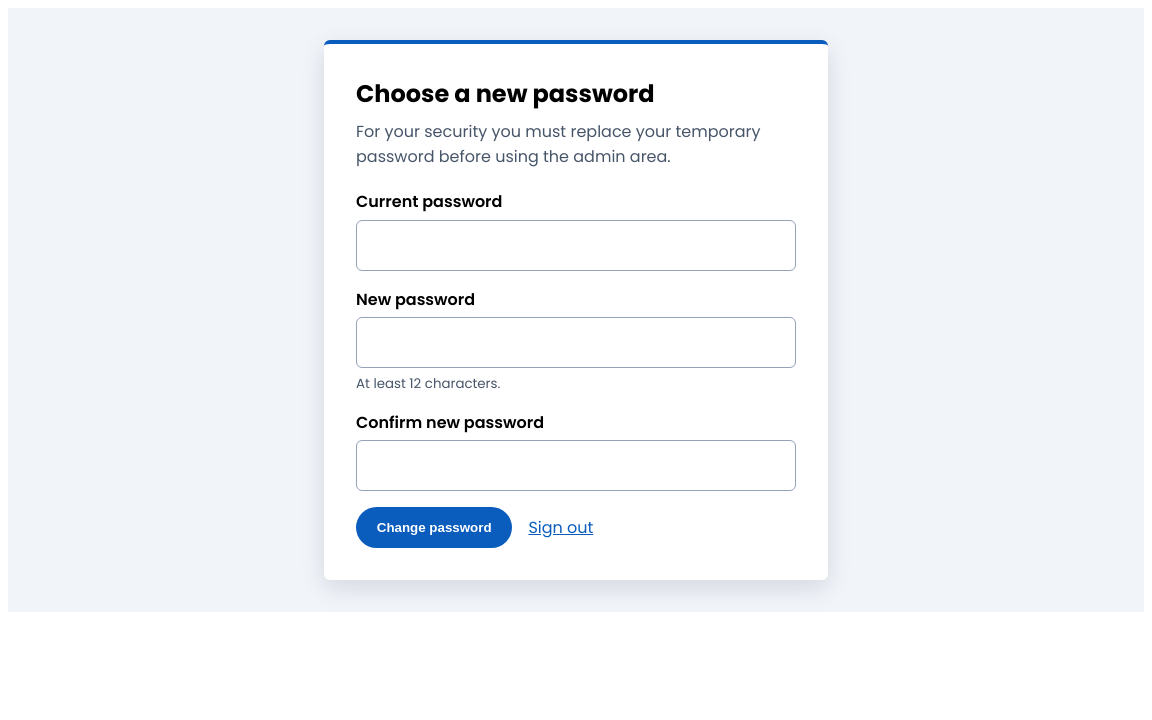
Test: ChangePasswordPageComponent › shows the server message inline instead of a toast
Type "wrong-password-123" into the password field labelled "Current password" at (576, 245), box [356,220,796,271]
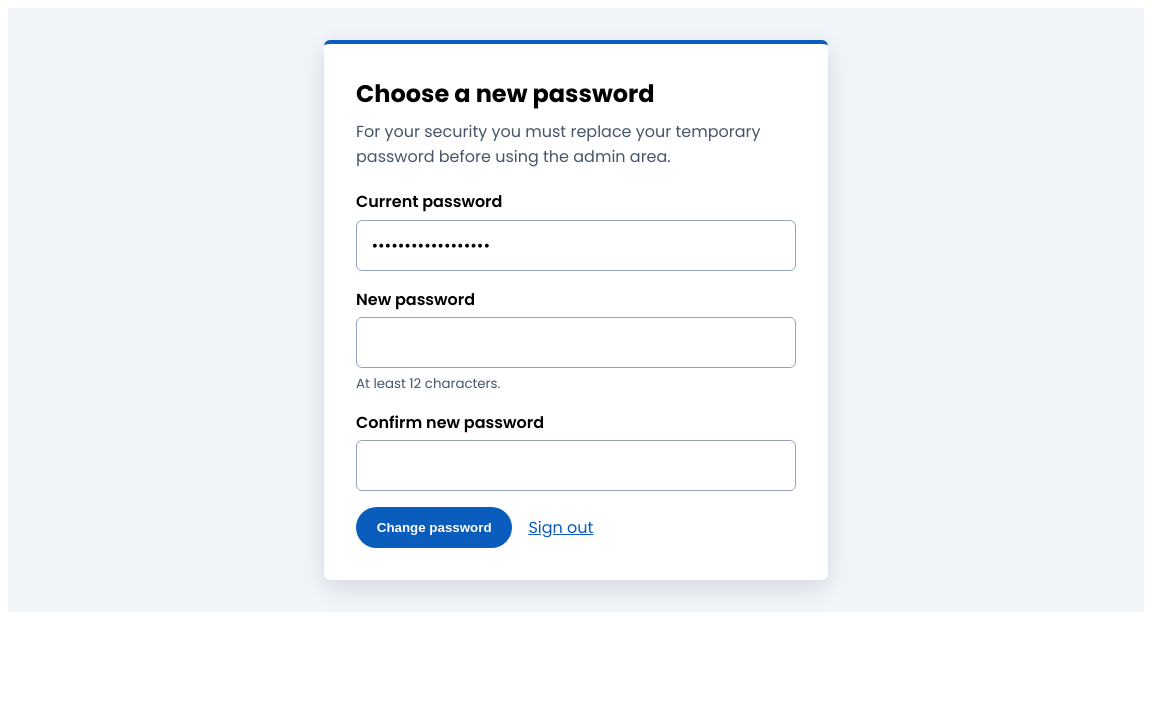
Type "a-brand-new-password" into the password field labelled "New password" at (576, 343), box [356,317,796,368]
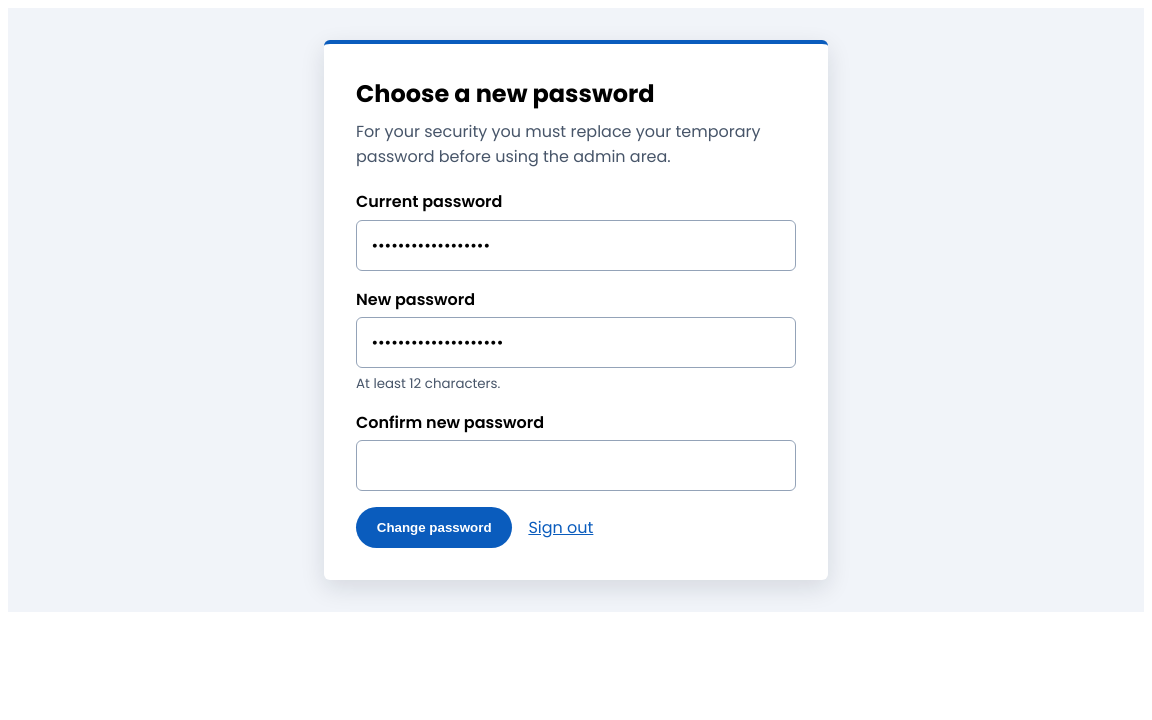
Type "a-brand-new-password" into the password field labelled "Confirm new password" at (576, 466), box [356,440,796,491]
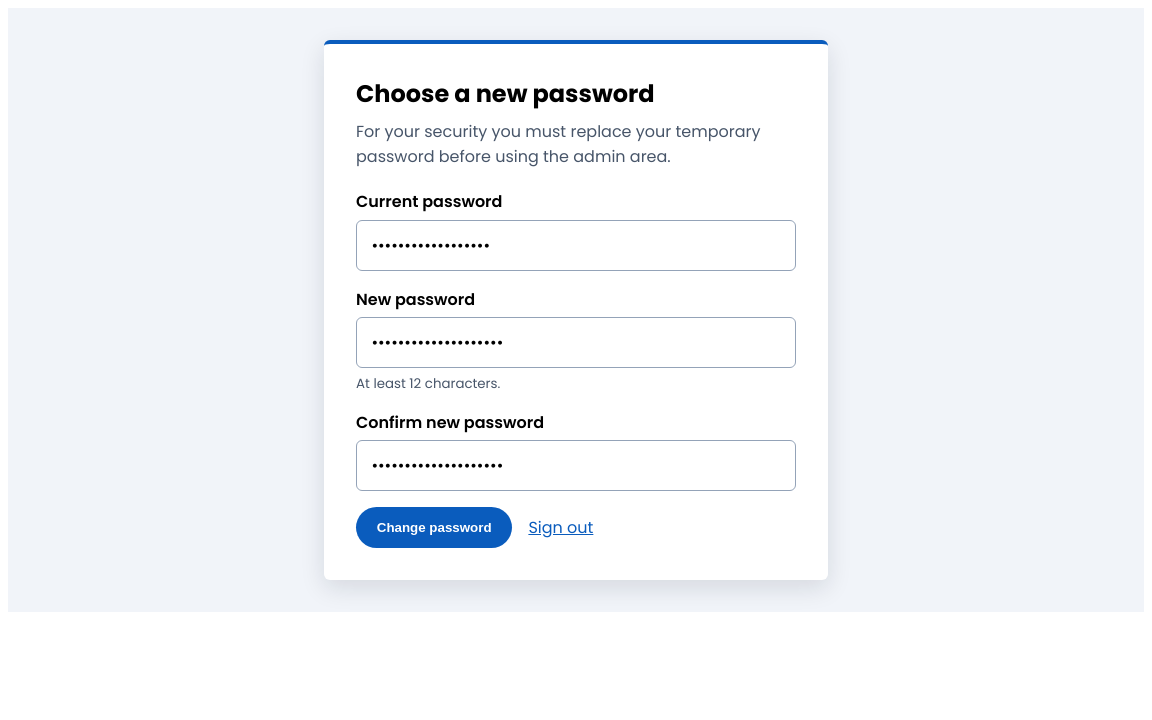
Click the submit button at (434, 528), box [356,507,512,548]
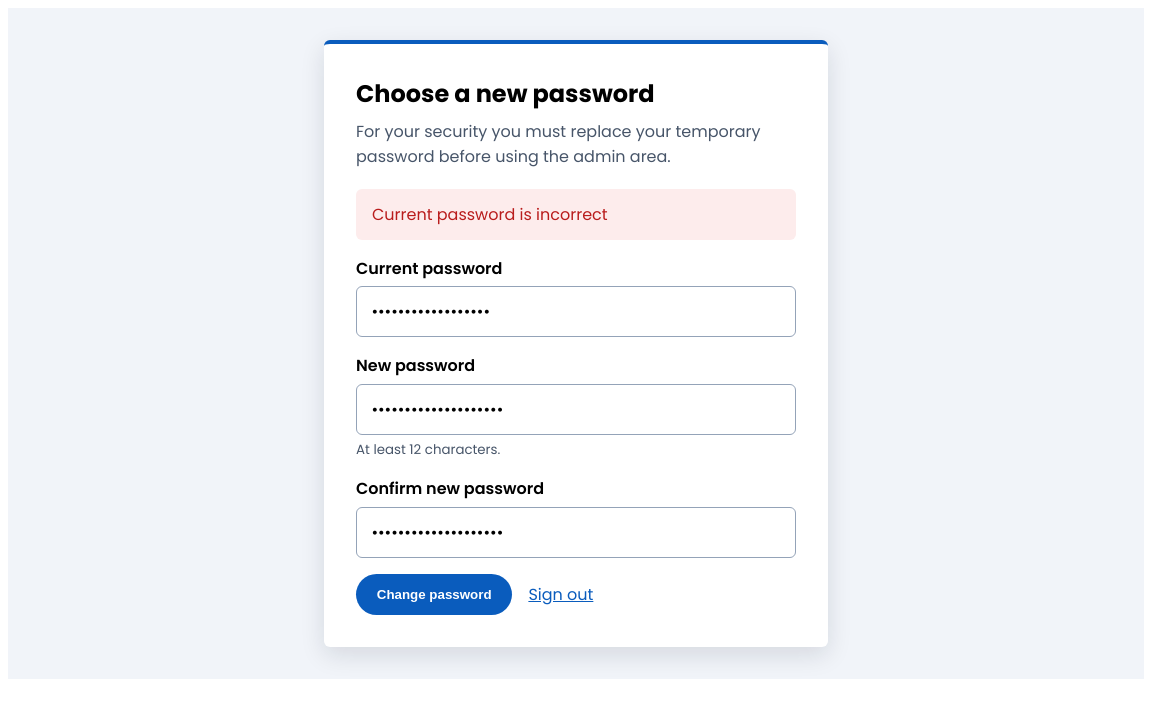
expect the message with class "status" reads "Current password is incorrect": met, box [372,203,608,226]
